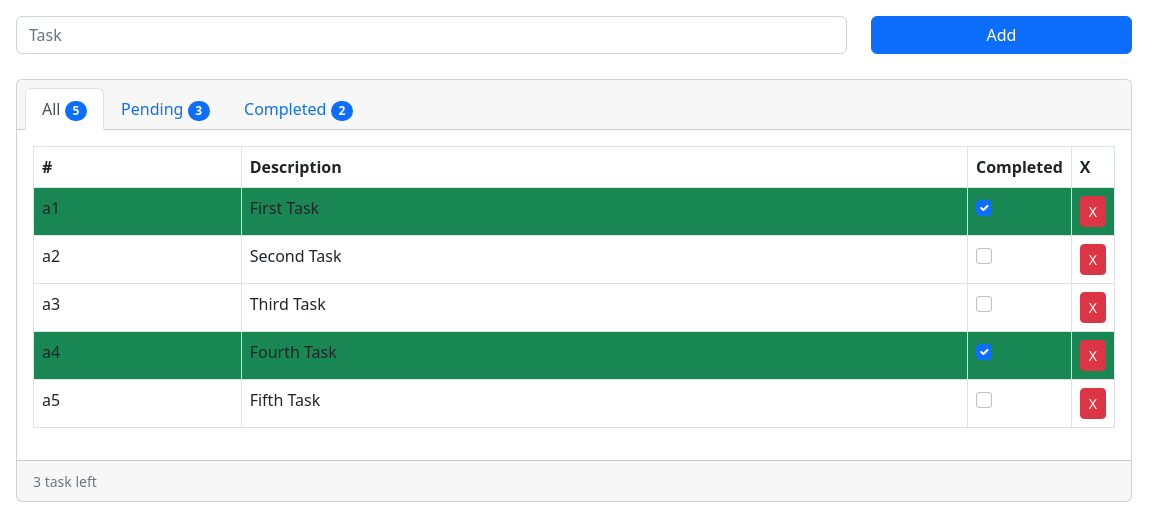
Todo Component › Tab Change
click on completed task tab
Click the button with test id "nav-tab-completed".
click(298, 110)  # box x1=244 y1=98 x2=353 y2=121
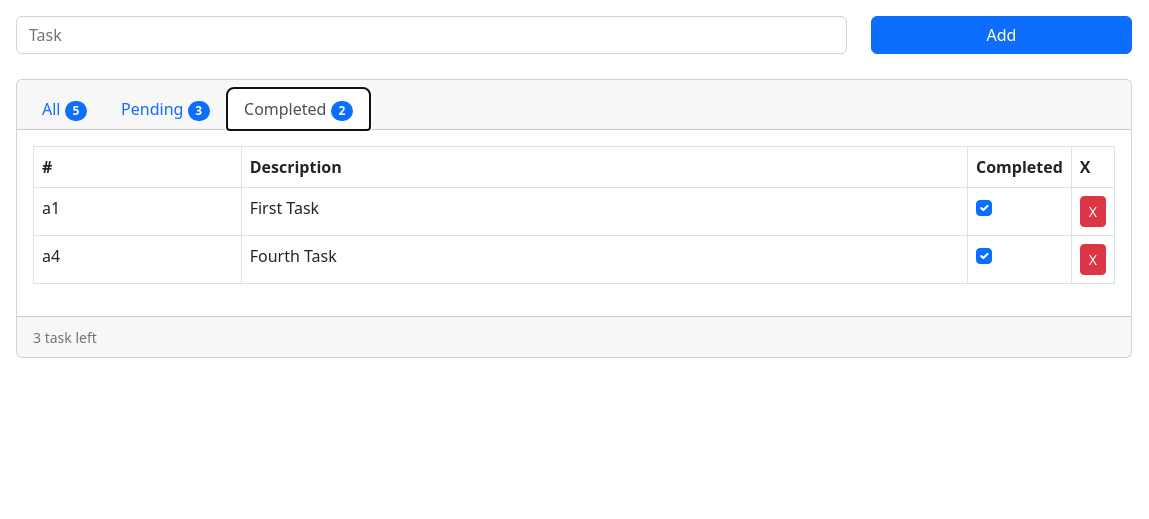
expect the number of rows with test id "task-row" is 2: met, box x1=34 y1=188 x2=1114 y2=236; x1=34 y1=236 x2=1114 y2=284
Click the button with test id "nav-tab-pending".
click(166, 110)  # box x1=121 y1=98 x2=210 y2=121
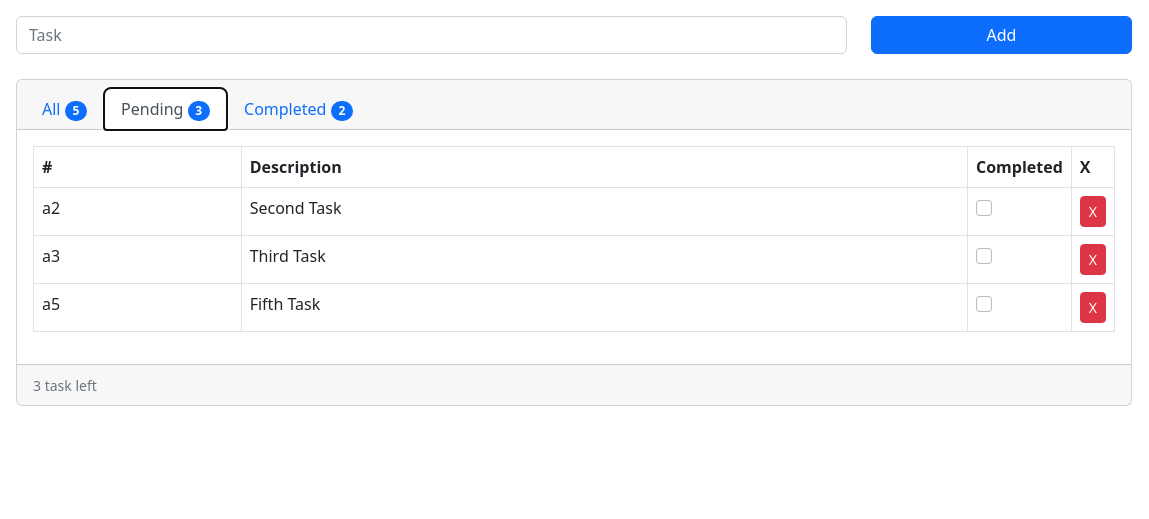
expect the number of rows with test id "task-row" is 3: met, box x1=34 y1=188 x2=1114 y2=236; x1=34 y1=236 x2=1114 y2=284; x1=34 y1=284 x2=1114 y2=332
Click the button with test id "nav-tab-all".
click(65, 110)  # box x1=42 y1=98 x2=87 y2=121
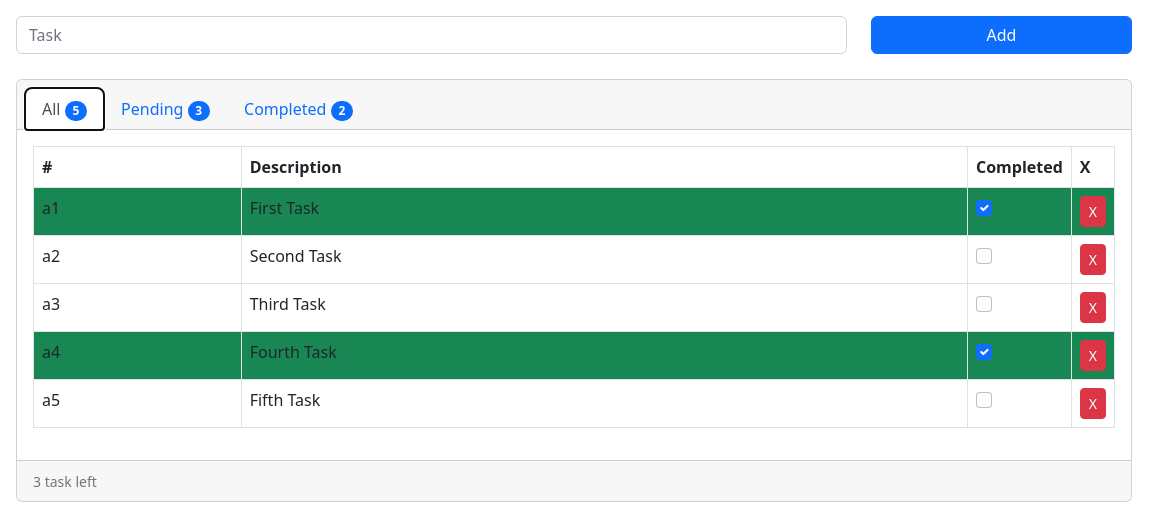
expect the number of rows with test id "task-row" is 5: met, box x1=34 y1=188 x2=1114 y2=236; x1=34 y1=236 x2=1114 y2=284; x1=34 y1=284 x2=1114 y2=332; x1=34 y1=332 x2=1114 y2=380; x1=34 y1=380 x2=1114 y2=428
